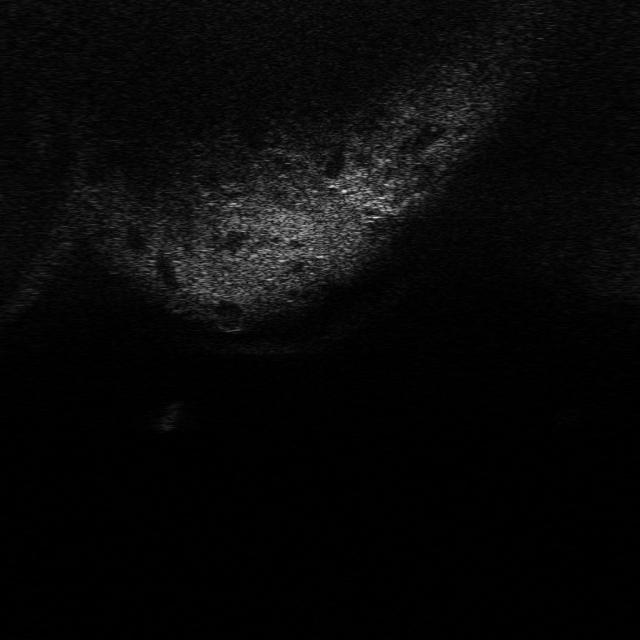cylinder: (154, 398, 187, 432)
